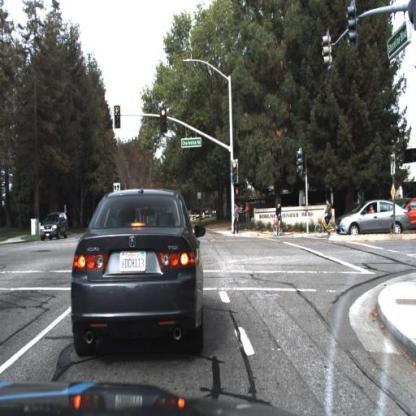biker: (313, 196, 339, 237), (315, 200, 336, 236), (271, 196, 288, 239), (276, 202, 286, 236)
car: (71, 187, 206, 357), (336, 196, 410, 233), (40, 210, 68, 243), (402, 199, 416, 229)
pedestrian: (231, 201, 243, 232), (232, 202, 240, 236), (245, 197, 253, 224), (239, 202, 245, 231)
trafficLight-Red: (161, 108, 167, 133), (233, 160, 239, 183)
trafficLight-RedLeft: (115, 103, 123, 128), (114, 105, 122, 128)
